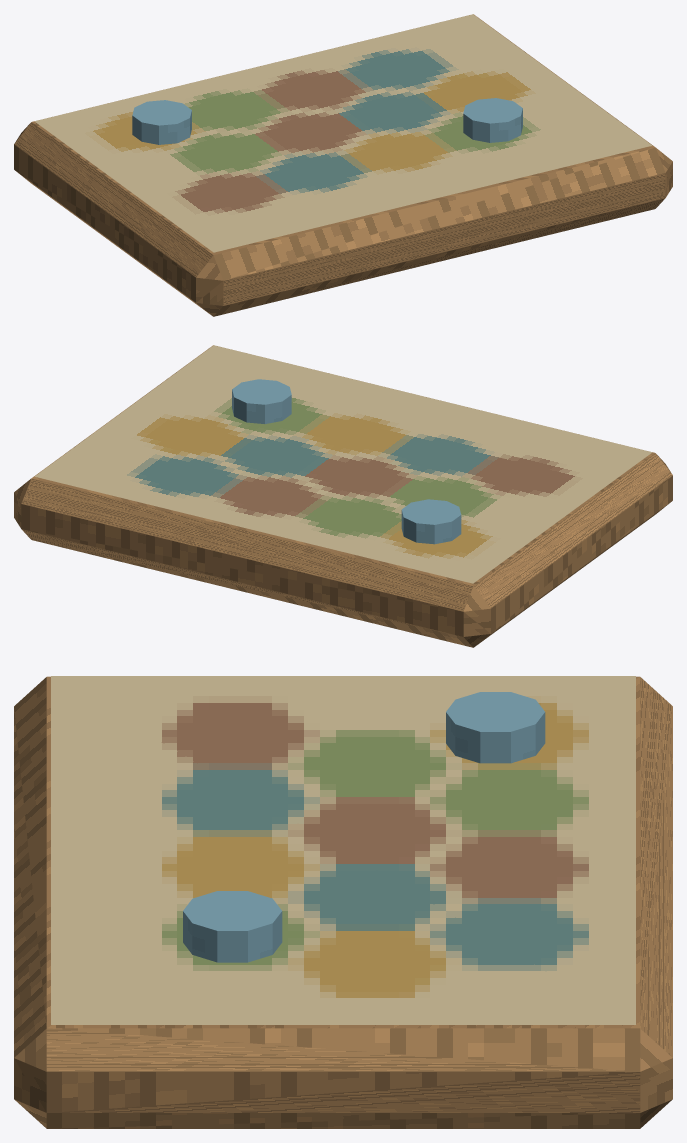
File: catan.glb
3 views of the same model, one above another, from view 1: azimuth 30°, elevation 25°; view 2: azimuth 150°, elevation 25°; view 3: azimuth 270°, elevation 25° (orthographic). The views are drawn at different scales.
Parts seen in each view (by area): view 1: block_printed game board, block_board game base, block_move counter (×2); view 2: block_printed game board, block_board game base, block_move counter (×2); view 3: block_printed game board, block_board game base, block_move counter (×2).
Part boxes in pixels (left/top/right/bottom): block_printed game board: left=35, top=14, right=651, bottom=252; block_board game base: left=14, top=14, right=672, bottom=316; block_move counter (×2): left=132, top=98, right=522, bottom=144; block_printed game board: left=35, top=345, right=651, bottom=583; block_board game base: left=14, top=345, right=672, bottom=647; block_move counter (×2): left=232, top=379, right=461, bottom=544; block_printed game board: left=51, top=676, right=635, bottom=1024; block_board game base: left=14, top=676, right=672, bottom=1128; block_move counter (×2): left=183, top=692, right=545, bottom=962.
Size of the model in its own units: 0.2047 by 0.0337 by 0.1503.
1 material, 1 textured.
